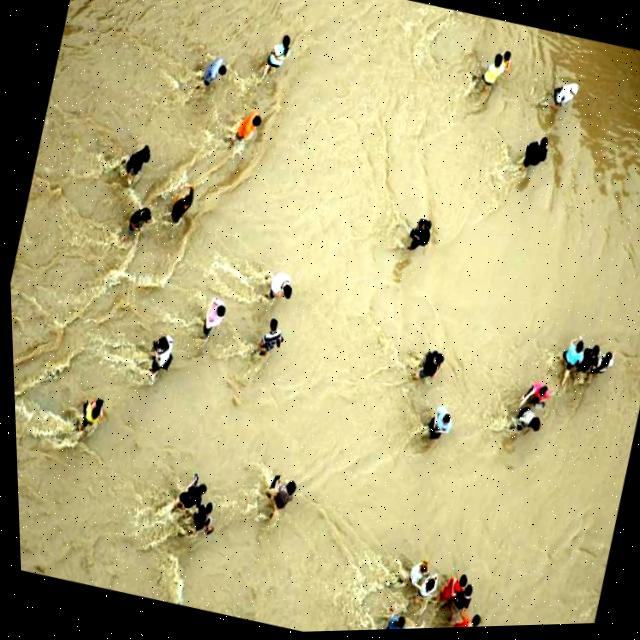civilian: (511, 129, 553, 187), (193, 290, 232, 348), (182, 492, 227, 542), (263, 20, 303, 74), (171, 470, 211, 523), (473, 45, 512, 99), (194, 46, 233, 99), (254, 315, 290, 372), (262, 464, 303, 514), (574, 340, 611, 394), (142, 329, 181, 377), (557, 327, 591, 382), (260, 263, 300, 308), (231, 103, 266, 154), (115, 140, 157, 182), (404, 212, 440, 260), (165, 175, 198, 225), (119, 199, 156, 243), (418, 344, 453, 390), (519, 376, 566, 409), (424, 398, 461, 438), (510, 401, 547, 441), (442, 599, 490, 628), (551, 76, 584, 114), (591, 347, 621, 386), (78, 396, 109, 433), (443, 565, 470, 607), (401, 555, 430, 591), (385, 601, 416, 629), (498, 39, 518, 73), (454, 584, 478, 611), (418, 571, 438, 602)
